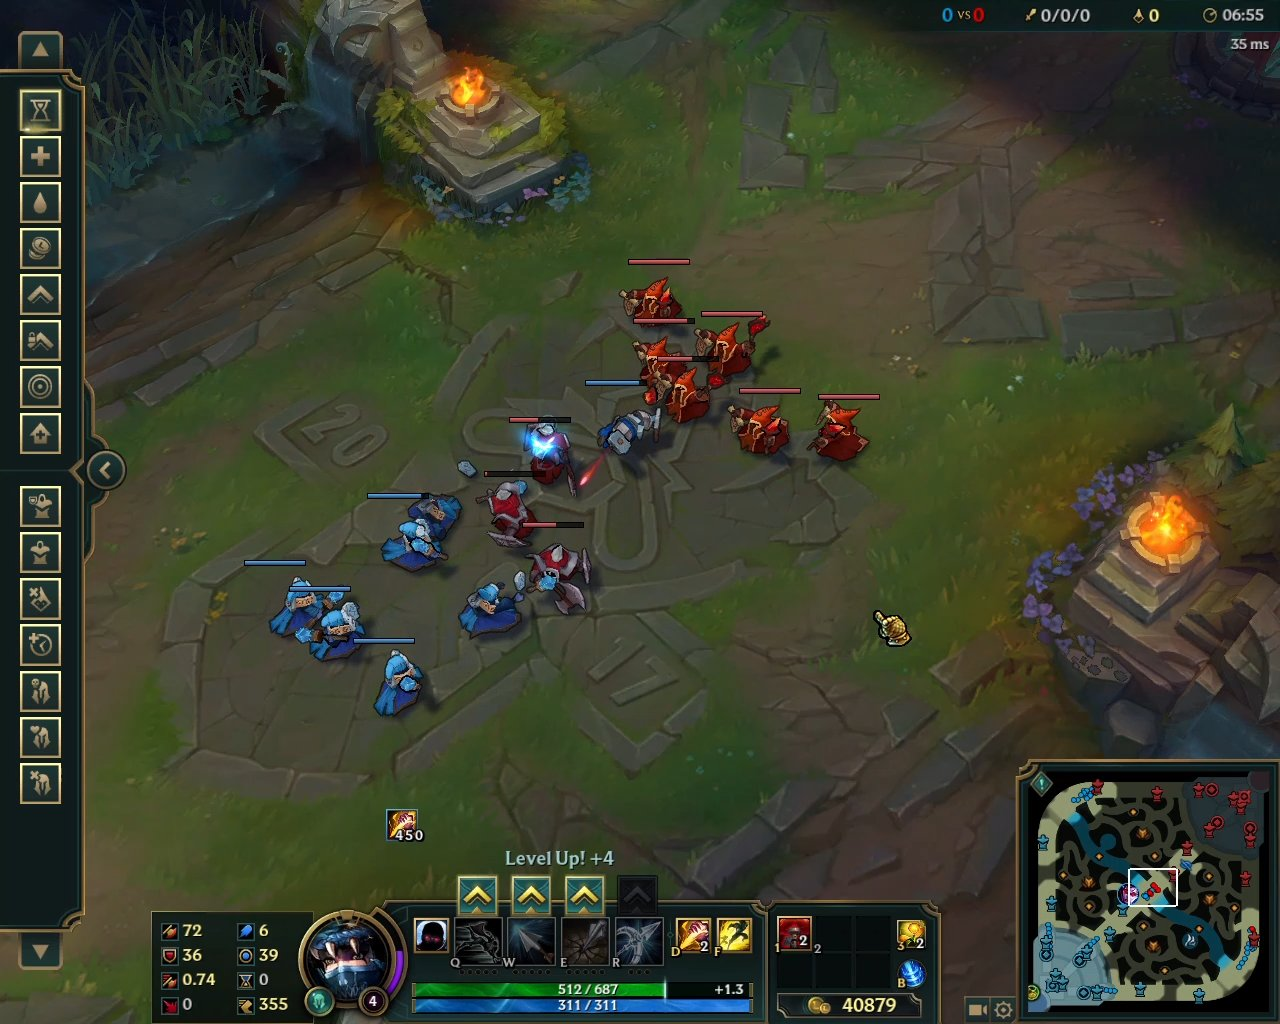EnemyMinion: (520, 522, 592, 622), (510, 414, 580, 501), (628, 317, 695, 404), (472, 471, 544, 552), (697, 308, 773, 381), (619, 257, 693, 330), (725, 387, 800, 458), (806, 393, 881, 461), (651, 354, 720, 427)
